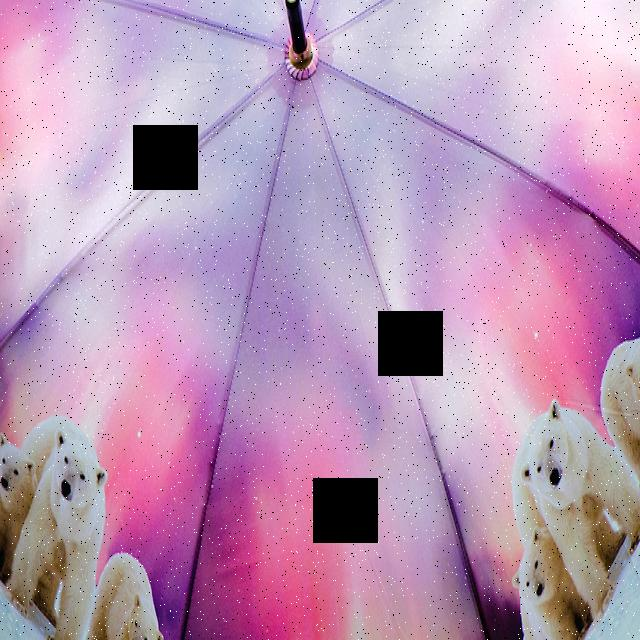Bear: (502, 392, 640, 612), (20, 397, 108, 640), (0, 431, 56, 613), (508, 521, 590, 640)
